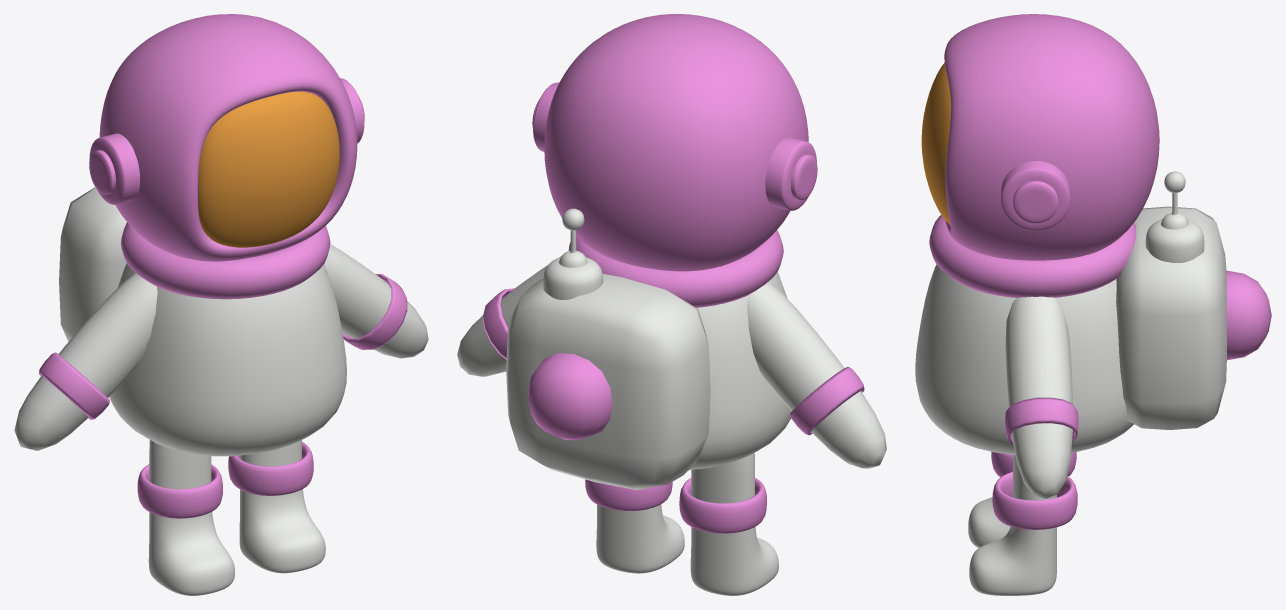
The model's file is spaceCharacter.glb.
3 renders of one model, left to right at view 1: azimuth 30°, elevation 25°; view 2: azimuth 150°, elevation 25°; view 3: azimuth 270°, elevation 25°, orthographic. The views are drawn at different scales.
Parts seen in each view (by area): view 1: Cube.002, Cube, Cube.001, Cube.003, Cube.009, Torus.002, Cube.007, Cube.004, Cube.005, Cylinder.002, Cube.011, Cube.010 (+1 smaller); view 2: Cube, Cube.007, Cube.003, Cube.009, Cube.002, Cube.008, Torus.002, Cube.004, Cylinder.002, Cylinder, Cube.005, Cube.011 (+2 smaller); view 3: Cube, Cube.002, Cube.007, Cube.005, Torus.002, Cube.003, Cylinder.004, Cube.004, Cube.008, Cube.001, Cylinder, Cube.010.
Boxes of the visible parts, <box> form: Cube.002: <box>109,263,346,456</box>; Cube: <box>99,14,357,261</box>; Cube.001: <box>198,91,339,247</box>; Cube.003: <box>148,440,325,595</box>; Cube.009: <box>14,273,157,450</box>; Torus.002: <box>121,222,330,299</box>; Cube.007: <box>59,187,126,341</box>; Cube.004: <box>137,442,313,518</box>; Cube.005: <box>323,244,428,358</box>; Cylinder.002: <box>89,133,140,204</box>; Cube.011: <box>38,352,109,419</box>; Cube.010: <box>342,274,407,349</box>; Cube: <box>544,14,808,271</box>; Cube.007: <box>506,273,710,489</box>; Cube.003: <box>596,453,778,595</box>; Cube.009: <box>747,281,886,468</box>; Cube.002: <box>689,272,791,469</box>; Cube.008: <box>528,353,612,440</box>; Torus.002: <box>568,230,783,307</box>; Cube.004: <box>585,478,766,533</box>; Cylinder.002: <box>765,137,817,210</box>; Cylinder: <box>543,208,603,299</box>; Cube.005: <box>457,256,561,376</box>; Cube.011: <box>790,367,864,435</box>; Cube: <box>944,14,1159,260</box>; Cube.002: <box>915,264,1133,455</box>; Cube.007: <box>1116,206,1227,429</box>; Cube.005: <box>1005,296,1072,499</box>; Torus.002: <box>929,215,1136,297</box>; Cube.003: <box>968,455,1056,595</box>; Cylinder.004: <box>1000,160,1070,231</box>; Cube.004: <box>991,451,1077,529</box>; Cube.008: <box>1226,270,1271,360</box>; Cube.001: <box>921,63,950,224</box>; Cylinder: <box>1145,171,1204,262</box>; Cube.010: <box>1005,397,1078,445</box>.
Size of the model in its own units: 1.9 by 2.36 by 1.42.
